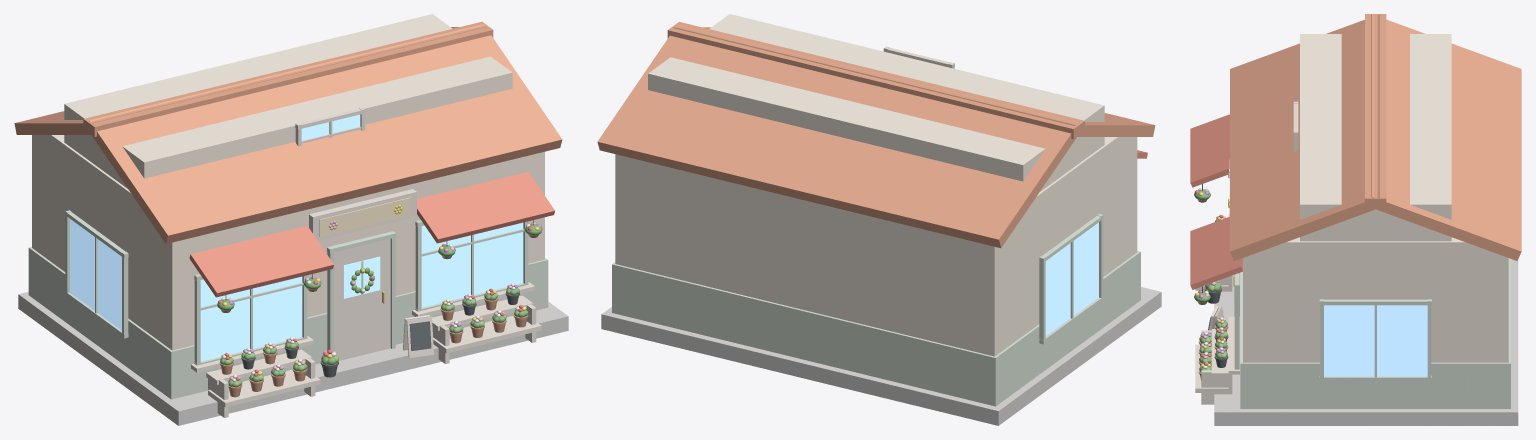
The model's file is Building_FlowerShop_Darae.fbx.
3 renders of one model, left to right at view 1: azimuth 30°, elevation 25°; view 2: azimuth 150°, elevation 25°; view 3: azimuth 270°, elevation 25°, orthographic. The views are drawn at different scales.
Visible parts, largest first — view 1: Building_FlowerShop_Darae; view 2: Building_FlowerShop_Darae; view 3: Building_FlowerShop_Darae.
Boxes of the visible parts, x1=… form: Building_FlowerShop_Darae: x1=14, y1=14, x2=568, y2=425; Building_FlowerShop_Darae: x1=597, y1=14, x2=1161, y2=425; Building_FlowerShop_Darae: x1=1190, y1=14, x2=1521, y2=425.
Bounding box in the file's own units: 920 × 535 × 698.
